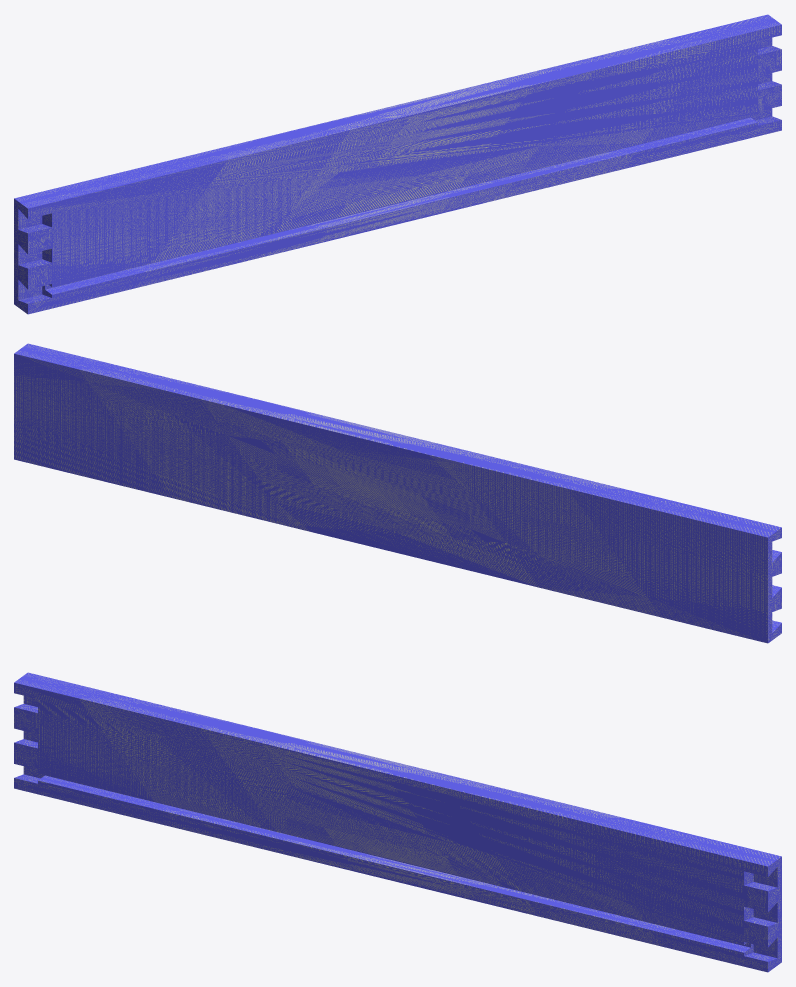
File: original-80.obj
The picture shows the model from 3 angles, top to bottom: view 1: azimuth 30°, elevation 25°; view 2: azimuth 150°, elevation 25°; view 3: azimuth 330°, elevation 25°; orthographic projection.
Visible parts, largest first — view 1: Façadecomplet1/Façadecomplet/mesh9/mesh9-geometry#mesh9-geometry; view 2: Façadecomplet1/Façadecomplet/mesh9/mesh9-geometry#mesh9-geometry; view 3: Façadecomplet1/Façadecomplet/mesh9/mesh9-geometry#mesh9-geometry.
Part boxes in pixels (left/top/right/bottom): Façadecomplet1/Façadecomplet/mesh9/mesh9-geometry#mesh9-geometry: left=14, top=14, right=781, bottom=314; Façadecomplet1/Façadecomplet/mesh9/mesh9-geometry#mesh9-geometry: left=14, top=343, right=781, bottom=643; Façadecomplet1/Façadecomplet/mesh9/mesh9-geometry#mesh9-geometry: left=14, top=672, right=781, bottom=972.
Bounding box in the file's own units: 0.3429 × 0.046 × 0.011.
